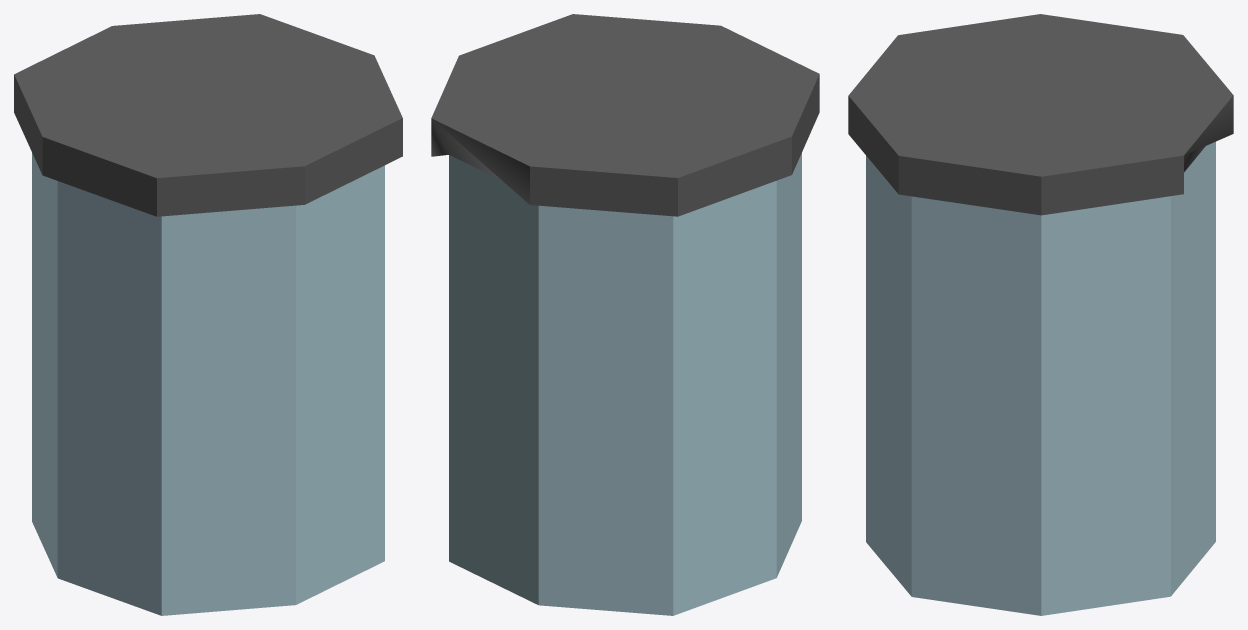
The model's file is Jar_10.fbx.
The picture shows the model from 3 angles, left to right: view 1: azimuth 30°, elevation 25°; view 2: azimuth 150°, elevation 25°; view 3: azimuth 270°, elevation 25°; orthographic projection.
Visible parts, largest first — view 1: Jar_10; view 2: Jar_10; view 3: Jar_10.
Boxes of the visible parts, x1,y1,x2,y2 form: Jar_10: [14, 14, 402, 615]; Jar_10: [431, 14, 819, 615]; Jar_10: [848, 14, 1233, 615].
Bounding box in the file's own units: 27.94 × 27.94 × 35.75.
